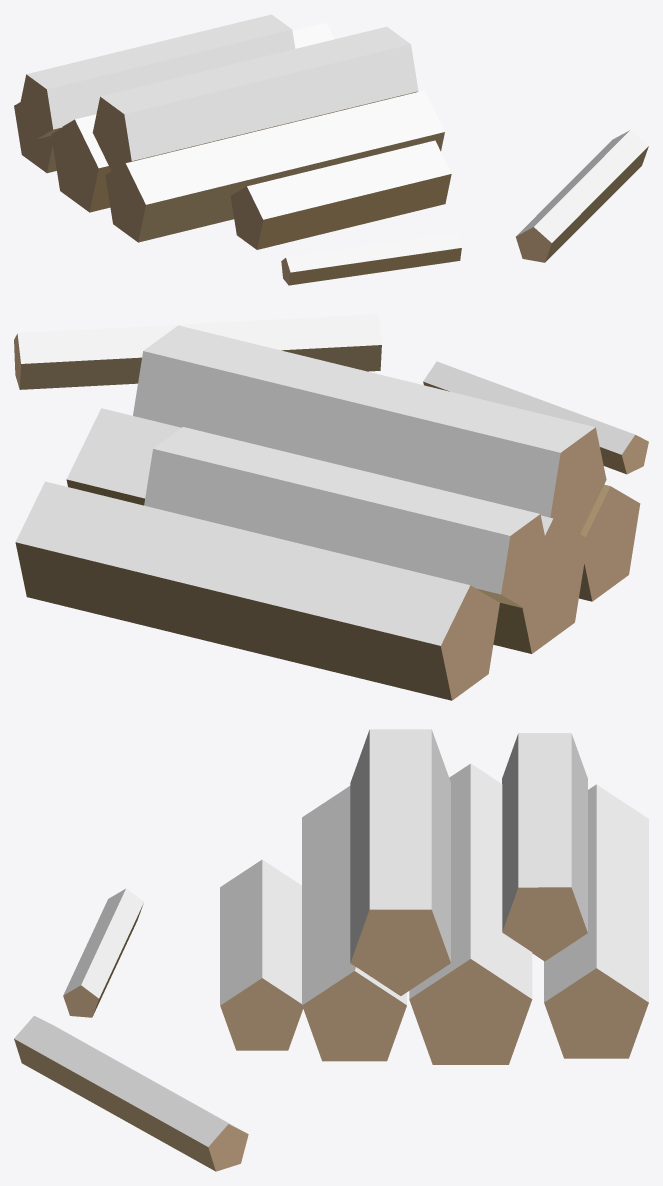
Rendered from Acacia_Firewood_Pile_Snow_02_LOD.fbx.
3 views of the same model, one above another, from view 1: azimuth 30°, elevation 25°; view 2: azimuth 150°, elevation 25°; view 3: azimuth 270°, elevation 25° (orthographic). The views are drawn at different scales.
Visible parts, largest first — view 1: Acacia_Firewood_Pile_Snow_02_LOD0; view 2: Acacia_Firewood_Pile_Snow_02_LOD0; view 3: Acacia_Firewood_Pile_Snow_02_LOD0.
Part boxes in pixels (x1,y1,x2,y2): Acacia_Firewood_Pile_Snow_02_LOD0: (14, 14, 648, 285); Acacia_Firewood_Pile_Snow_02_LOD0: (14, 314, 648, 700); Acacia_Firewood_Pile_Snow_02_LOD0: (14, 729, 648, 1171).
Size of what is drawn, in the model's own units: 90.22 by 21.4 by 79.88.
